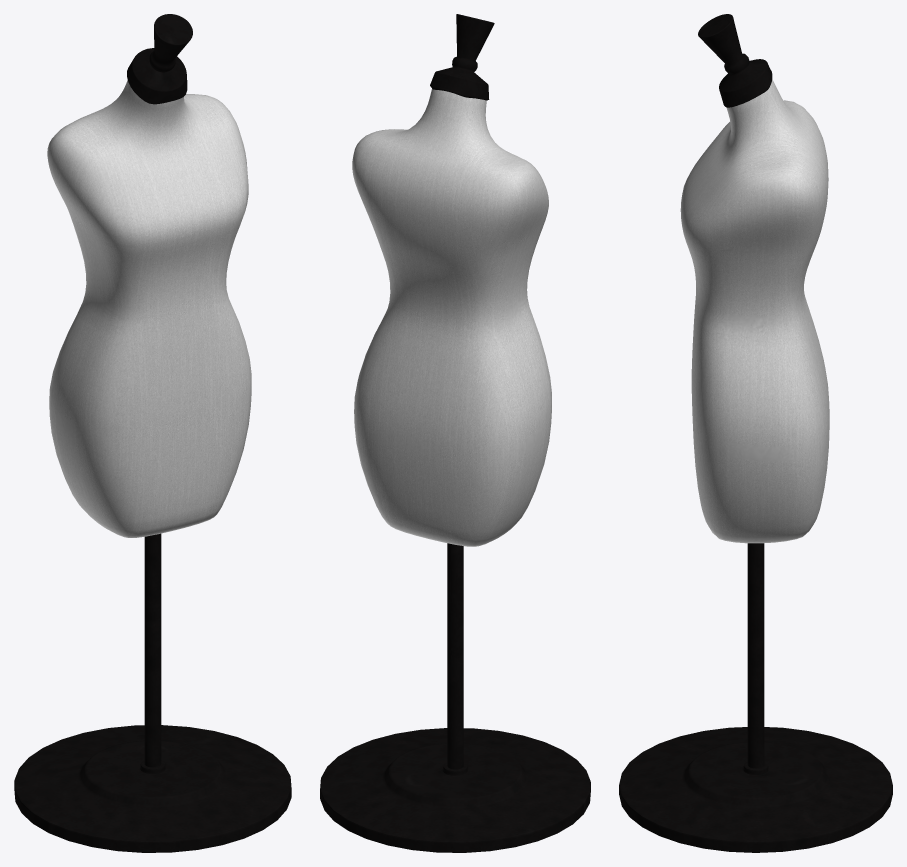
The model's file is sewing_mannequin.glb.
3 renders of one model, left to right at view 1: azimuth 30°, elevation 25°; view 2: azimuth 150°, elevation 25°; view 3: azimuth 270°, elevation 25°, orthographic. The views are drawn at different scales.
Parts seen in each view (by area): view 1: Sewing_Mannequin_0; view 2: Sewing_Mannequin_0; view 3: Sewing_Mannequin_0.
Part boxes in pixels (x1,y1,x2,y2): Sewing_Mannequin_0: (14, 14, 291, 852); Sewing_Mannequin_0: (320, 14, 590, 852); Sewing_Mannequin_0: (619, 14, 892, 852).
Size of the model in its own units: 0.5526 by 1.73 by 0.5526.
Materials: 1 (1 with a texture image).
